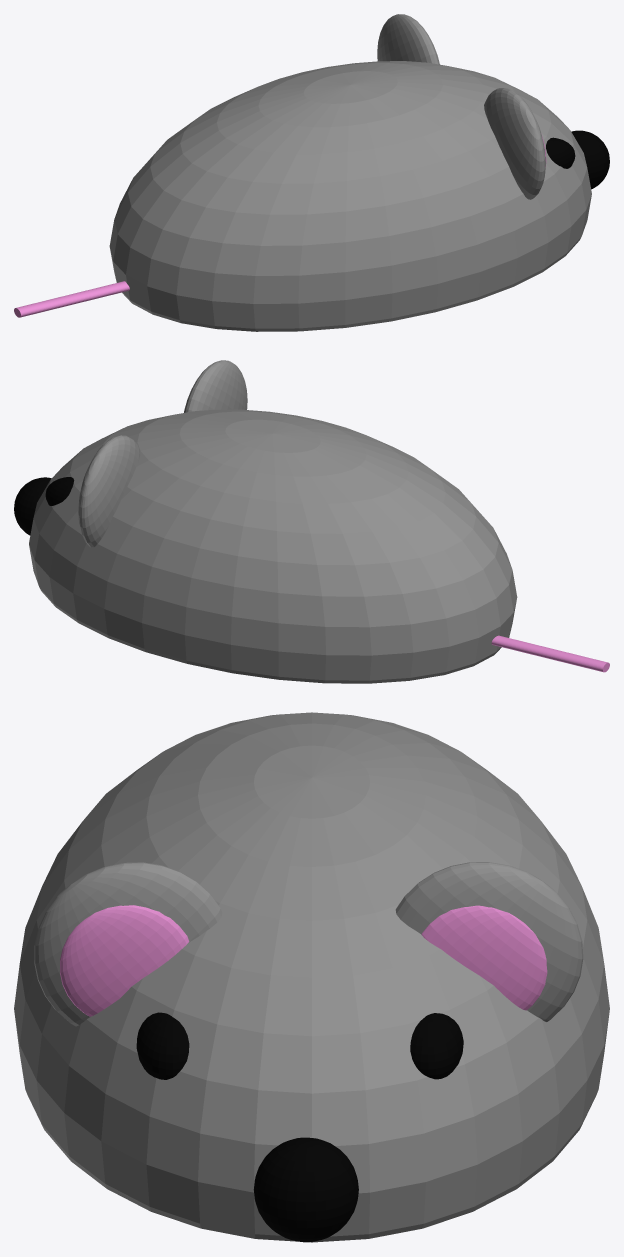
The model's file is Mouse.fbx.
3 views of the same model, one above another, from view 1: azimuth 30°, elevation 25°; view 2: azimuth 150°, elevation 25°; view 3: azimuth 270°, elevation 25° (orthographic). The views are drawn at different scales.
Parts seen in each view (by area): view 1: Sphere.007; view 2: Sphere.007; view 3: Sphere.007.
Part boxes in pixels (x1,y1,x2,y2): Sphere.007: [14, 14, 609, 331]; Sphere.007: [14, 360, 609, 683]; Sphere.007: [14, 712, 609, 1242].
Size of the model in its own units: 282 by 77.79 by 146.
